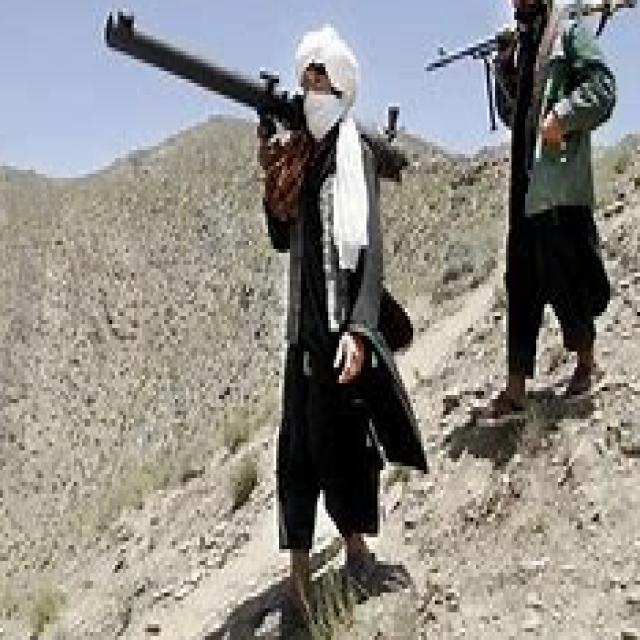terrorist: (107, 12, 424, 620), (424, 0, 627, 415)
